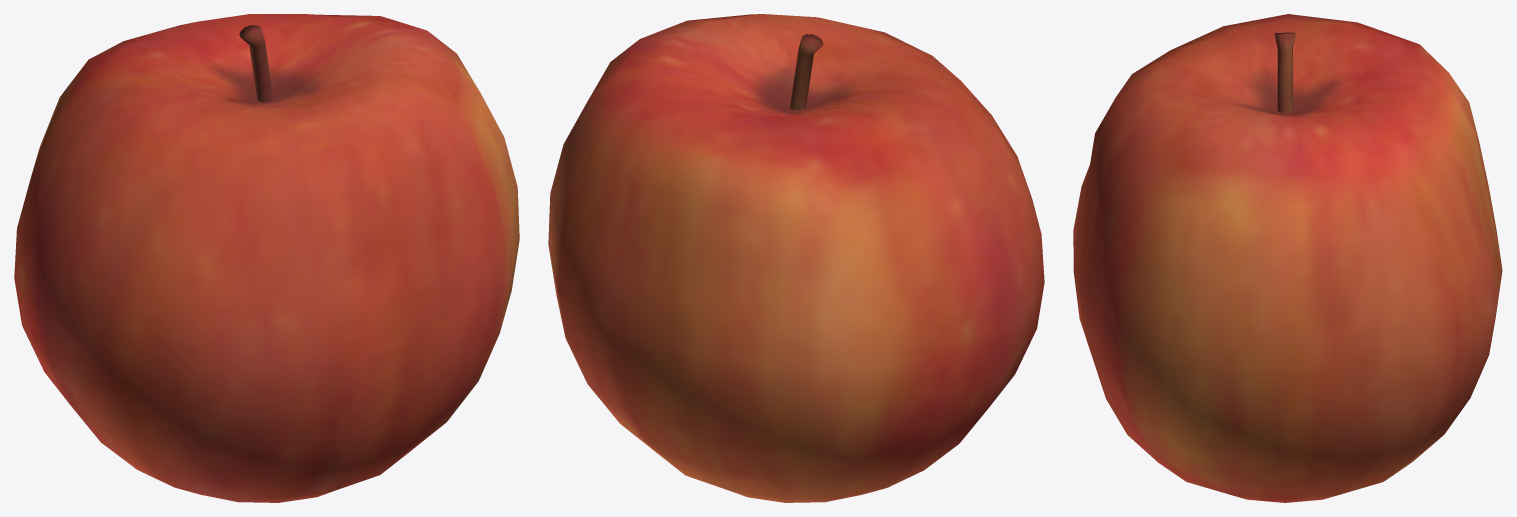
Rendered from SM_Apple_01.fbx.
3 views of the same model, side by side, from view 1: azimuth 30°, elevation 25°; view 2: azimuth 150°, elevation 25°; view 3: azimuth 270°, elevation 25° (orthographic). The views are drawn at different scales.
Visible parts, largest first — view 1: SM_Apple_01_LOD0; view 2: SM_Apple_01_LOD0; view 3: SM_Apple_01_LOD0.
Part boxes in pixels (x1=…): SM_Apple_01_LOD0: x1=14, y1=14, x2=519, y2=502; SM_Apple_01_LOD0: x1=548, y1=14, x2=1044, y2=502; SM_Apple_01_LOD0: x1=1073, y1=14, x2=1502, y2=502.
Size of the model in its own units: 13.17 by 11.31 by 12.57.
